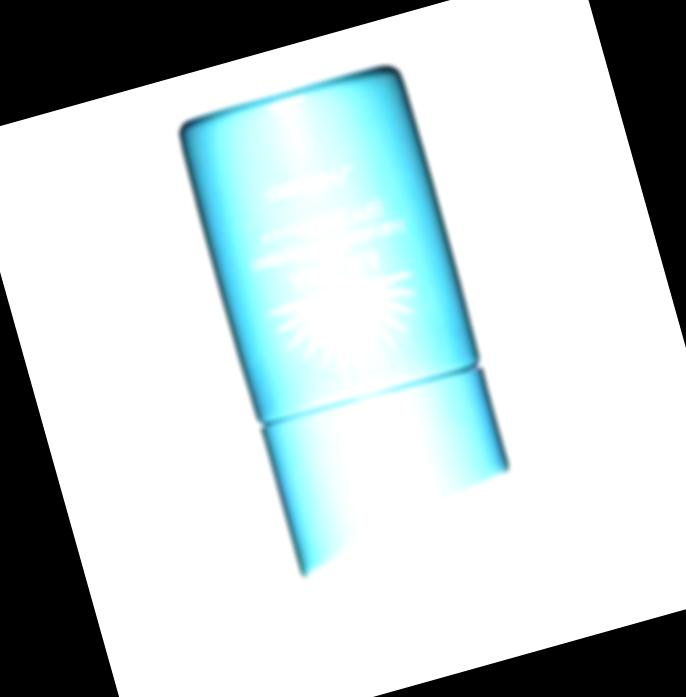cosmetic: (169, 60, 527, 585)
